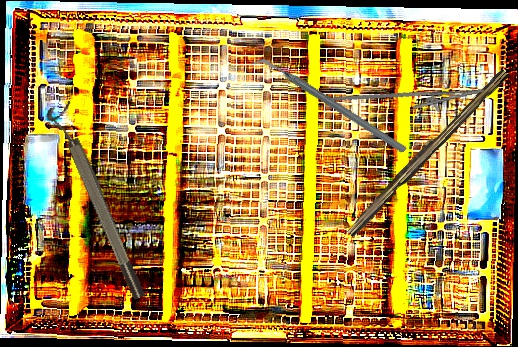Chopper: (249, 15, 409, 196)
Fixation Ring: (43, 100, 150, 305)
Needle Holder: (326, 69, 487, 132)
Scalpel Handle: (343, 63, 510, 241)
